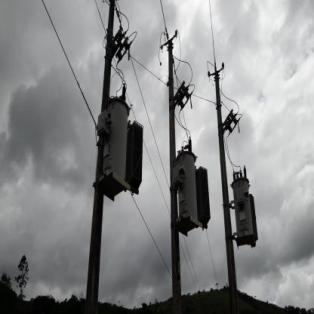Poste: (83, 1, 116, 312), (213, 66, 240, 312), (165, 31, 180, 311)
